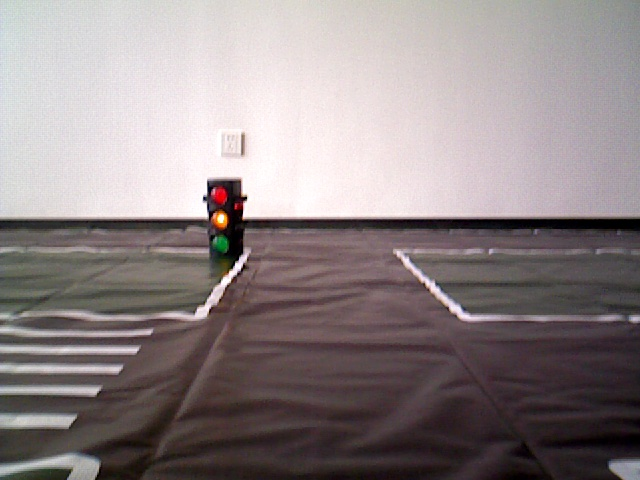yellow: (203, 177, 245, 264)
